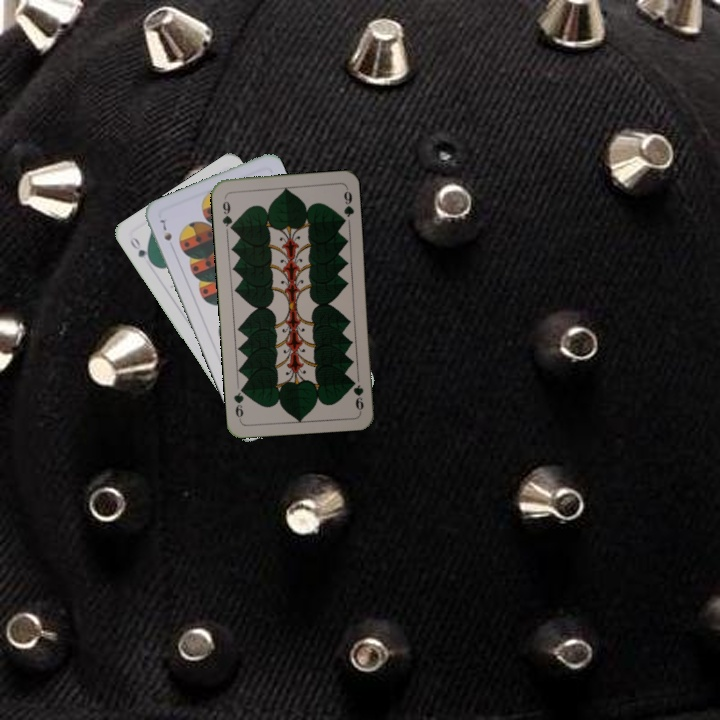G9: (348, 376, 366, 414), (218, 197, 236, 233)
GO: (126, 232, 156, 267)
S7: (156, 215, 175, 243)
